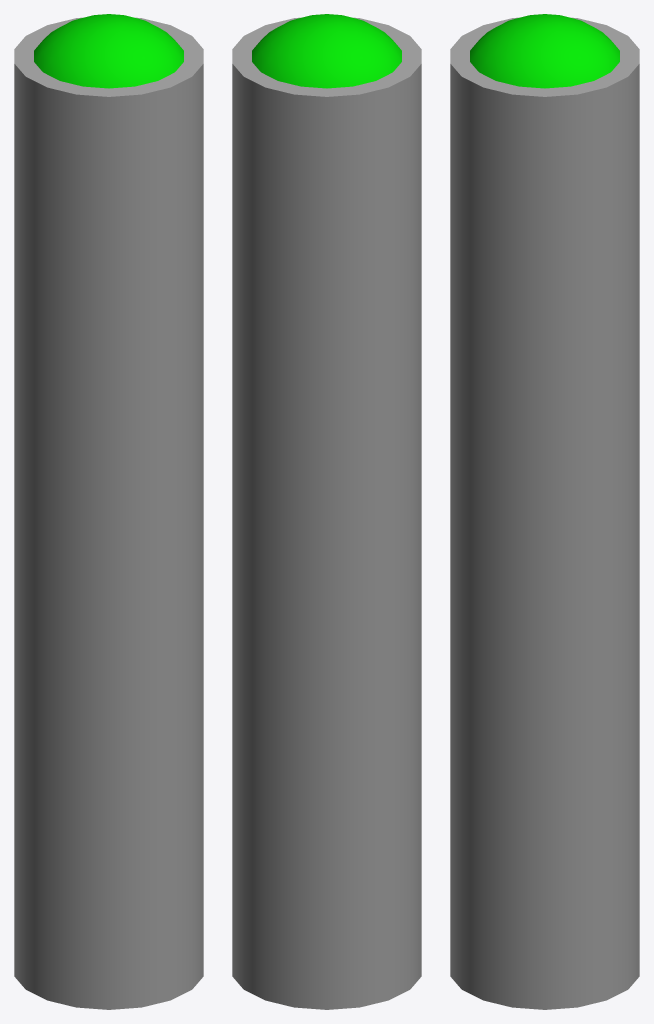
Rendered from pool-part.fbx.
3 views of the same model, side by side, from view 1: azimuth 30°, elevation 25°; view 2: azimuth 150°, elevation 25°; view 3: azimuth 270°, elevation 25° (orthographic).
Visible parts, largest first — view 1: pCylinder2, pSphere6; view 2: pCylinder2, pSphere6; view 3: pCylinder2, pSphere6.
Part boxes in pixels (bbox=[...]): pCylinder2: bbox=[14, 17, 203, 1009]; pSphere6: bbox=[34, 14, 183, 88]; pCylinder2: bbox=[232, 17, 421, 1009]; pSphere6: bbox=[252, 14, 401, 88]; pCylinder2: bbox=[450, 17, 639, 1009]; pSphere6: bbox=[470, 14, 619, 88].
Size of the model in its own units: 1.18 by 6.39 by 1.16.
